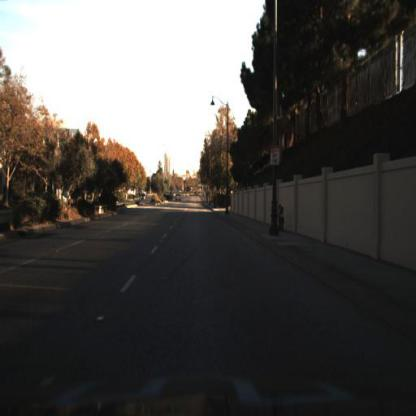car: (173, 191, 185, 210)
